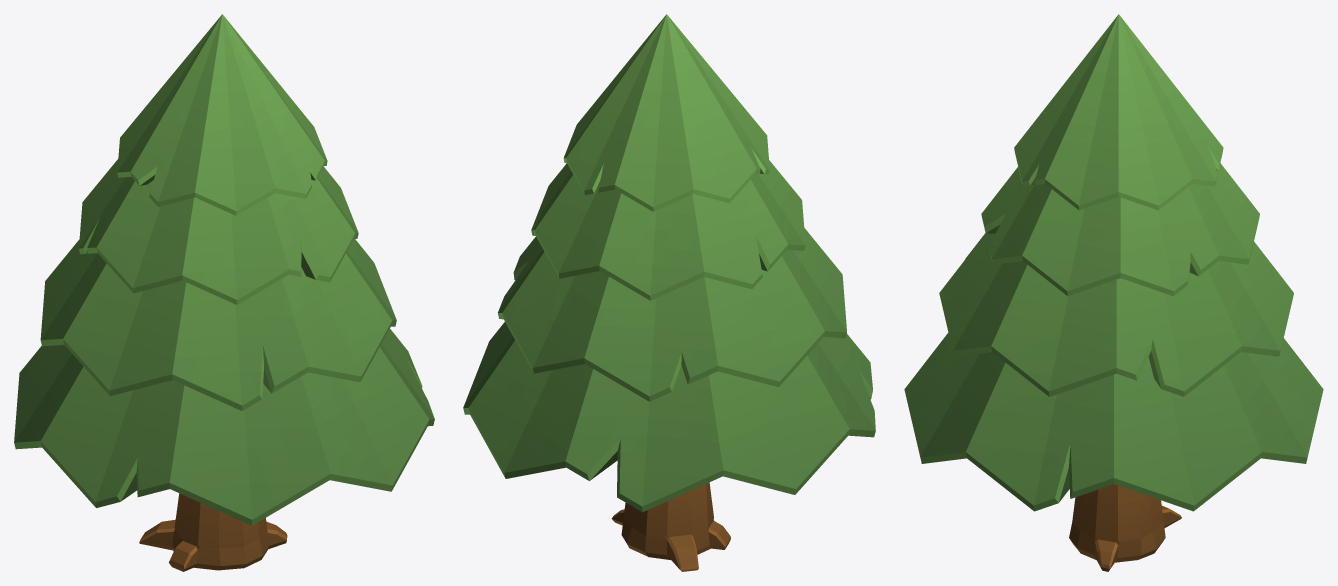
The model's file is Tree.fbx.
3 renders of one model, left to right at view 1: azimuth 30°, elevation 25°; view 2: azimuth 150°, elevation 25°; view 3: azimuth 270°, elevation 25°, orthographic.
Parts seen in each view (by area): view 1: Tree; view 2: Tree; view 3: Tree.
Part boxes in pixels (x1,y1,x2,y2): Tree: (14, 14, 434, 571); Tree: (463, 14, 875, 571); Tree: (904, 14, 1323, 571).
Bounding box in the file's own units: 487 × 680 × 487.
Materials: 1 (1 with a texture image).
